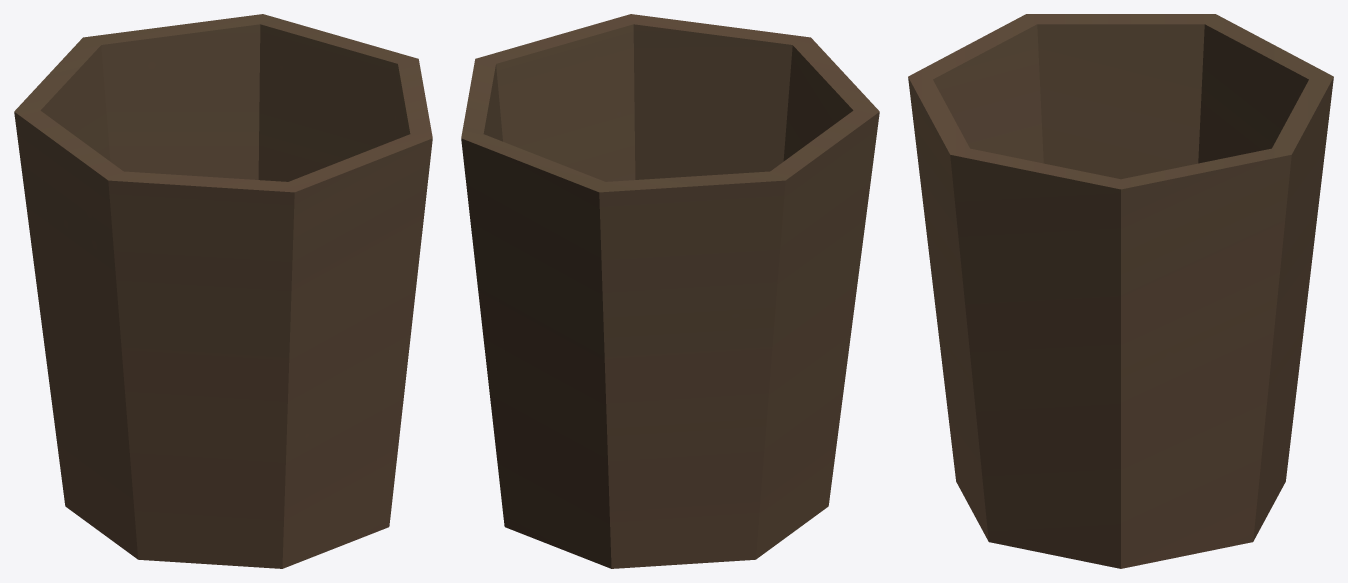
The model's file is Cup_3.fbx.
3 views of the same model, side by side, from view 1: azimuth 30°, elevation 25°; view 2: azimuth 150°, elevation 25°; view 3: azimuth 270°, elevation 25° (orthographic).
Parts seen in each view (by area): view 1: polySurface1513; view 2: polySurface1513; view 3: polySurface1513.
Boxes of the visible parts, x1,y1,x2,y2 form: polySurface1513: (14,14,432,568); polySurface1513: (461,14,879,568); polySurface1513: (908,14,1333,568).
Size of the model in its own units: 15.21 by 16.13 by 15.6.
